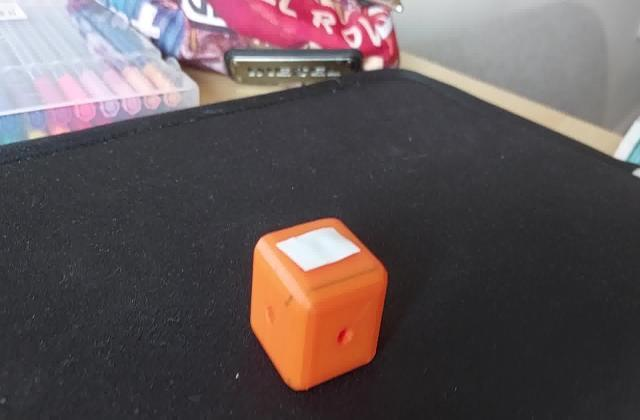cube: (244, 211, 391, 394)
white: (279, 234, 353, 279)
